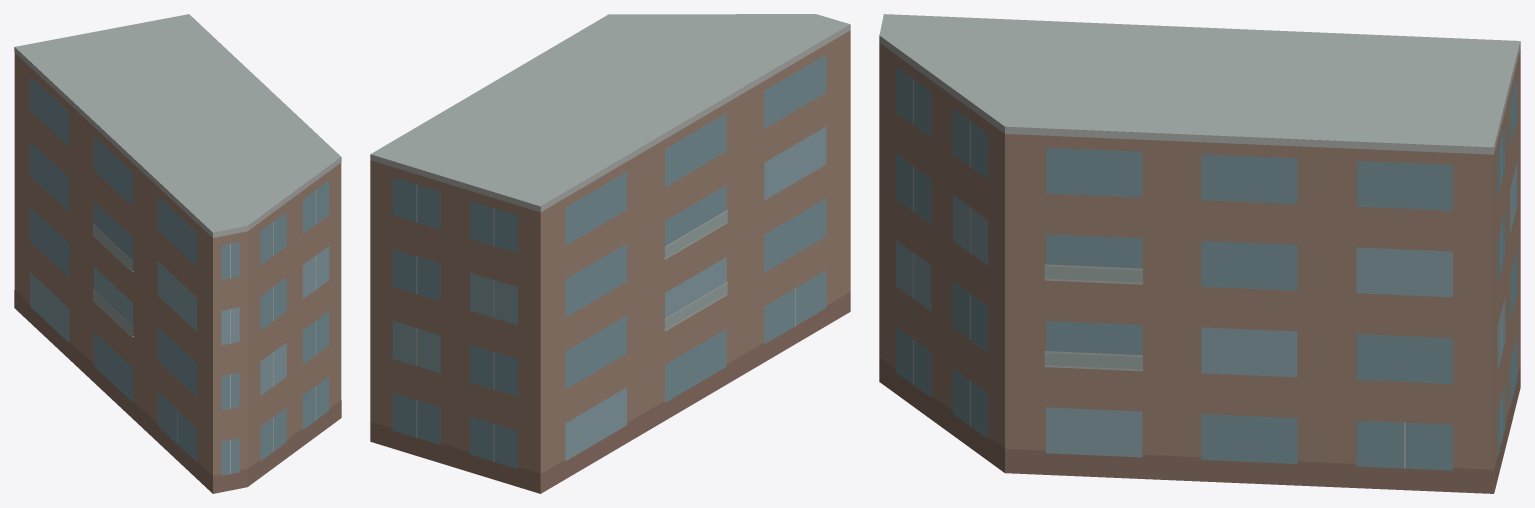
File: survey-upis-32993993.glb
3 renders of one model, left to right at view 1: azimuth 30°, elevation 25°; view 2: azimuth 150°, elevation 25°; view 3: azimuth 270°, elevation 25°, orthographic. The views are drawn at different scales.
Parts seen in each view (by area): view 1: survey-upis-32993993.tmp; view 2: survey-upis-32993993.tmp; view 3: survey-upis-32993993.tmp.
Part boxes in pixels (left/top/right/bottom): survey-upis-32993993.tmp: left=14, top=14, right=341, bottom=493; survey-upis-32993993.tmp: left=370, top=14, right=850, bottom=493; survey-upis-32993993.tmp: left=879, top=14, right=1520, bottom=493.
Bounding box in the file's own units: 9.68 × 11.7 × 19.64.
